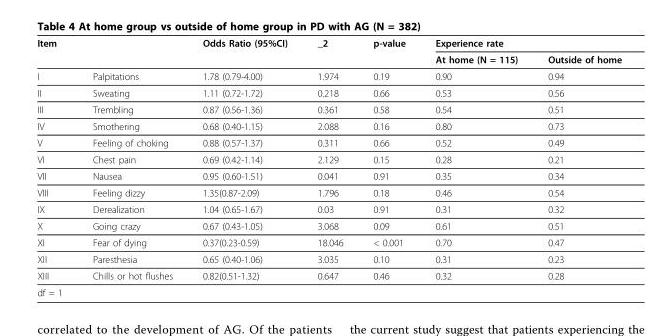table: (36, 36, 621, 297)
table column: (187, 36, 301, 297), (419, 36, 532, 297), (76, 36, 187, 297), (532, 36, 621, 297), (357, 36, 419, 297), (301, 36, 357, 297), (36, 36, 76, 297)
table column header: (36, 36, 621, 67)
table row: (36, 50, 621, 67), (36, 67, 621, 84), (36, 100, 621, 117), (36, 117, 621, 134), (36, 150, 621, 167), (36, 183, 621, 200), (36, 200, 621, 217), (36, 233, 621, 250), (36, 250, 621, 267), (36, 84, 621, 100), (36, 134, 621, 150), (36, 167, 621, 183), (36, 217, 621, 233), (36, 267, 621, 283), (36, 36, 621, 50), (36, 283, 621, 297)
table spanning cell: (187, 36, 301, 67), (419, 36, 621, 50), (357, 36, 419, 67), (301, 36, 357, 67), (36, 36, 76, 67)
